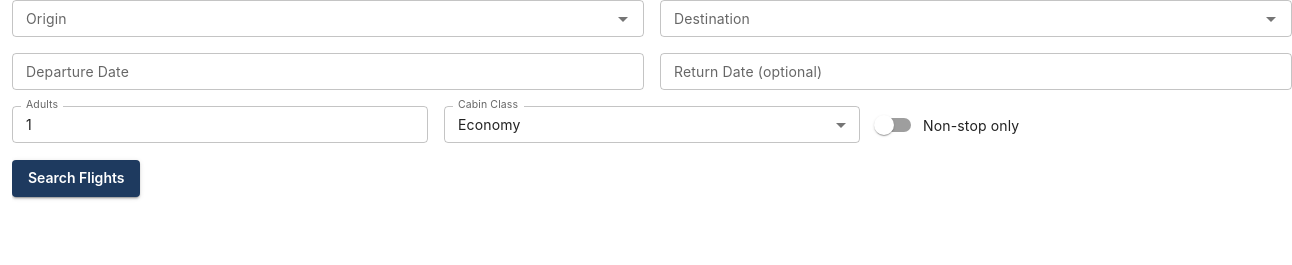
it: SearchForm › REQ-SEARCH-FORM-S01: shows errors on empty submit
What coordinates should you click on to do the following:
click the button "Search Flights"
I would click on:
 (76, 179)
Its box is left=12, top=160, right=140, bottom=197.
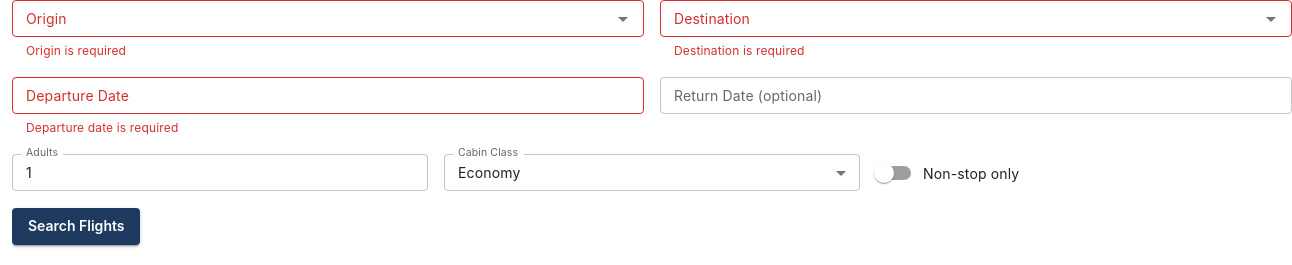
Result: the text "Origin is required" is shown at left=26, top=43, right=126, bottom=58
Result: the text "Destination is required" is shown at left=674, top=43, right=804, bottom=58
Result: the text "Departure date is required" is shown at left=26, top=120, right=178, bottom=135
